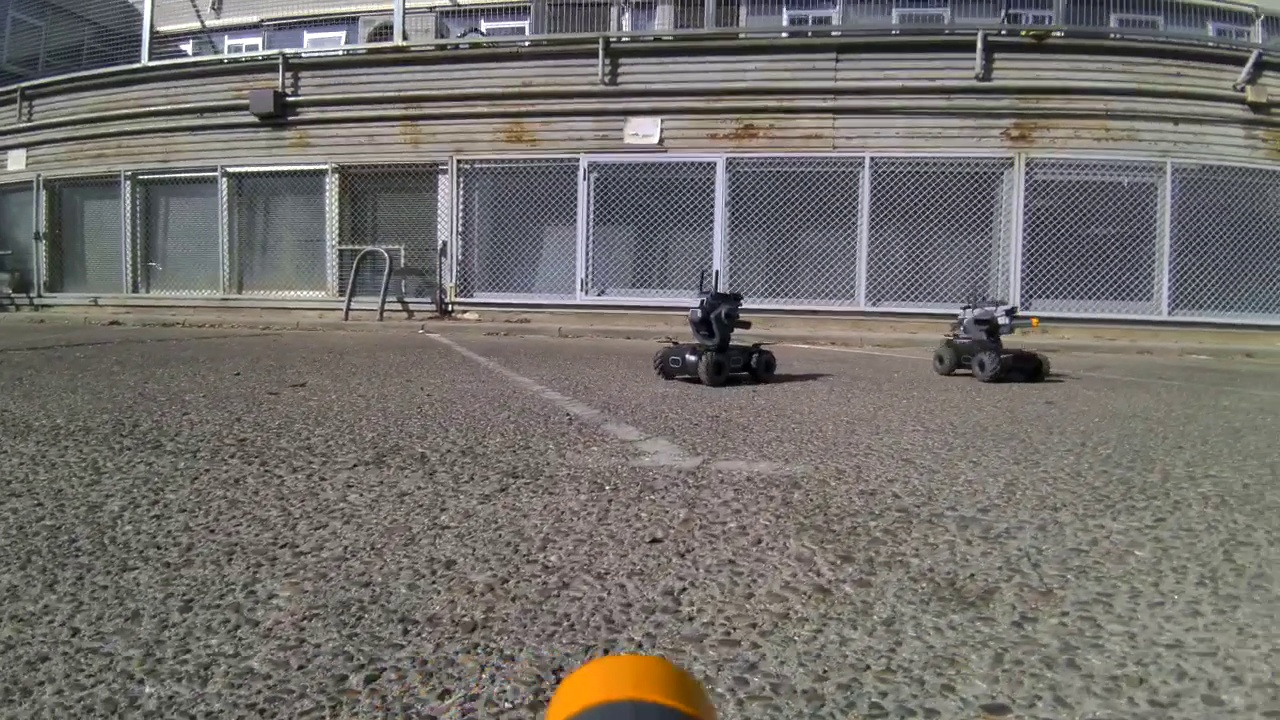robot: (647, 263, 786, 402), (922, 283, 1064, 393)
